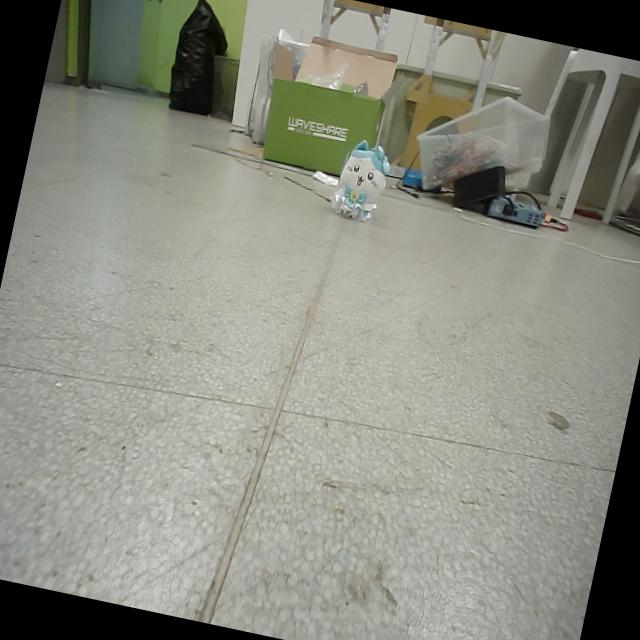xiaoba: (328, 136, 392, 224)
